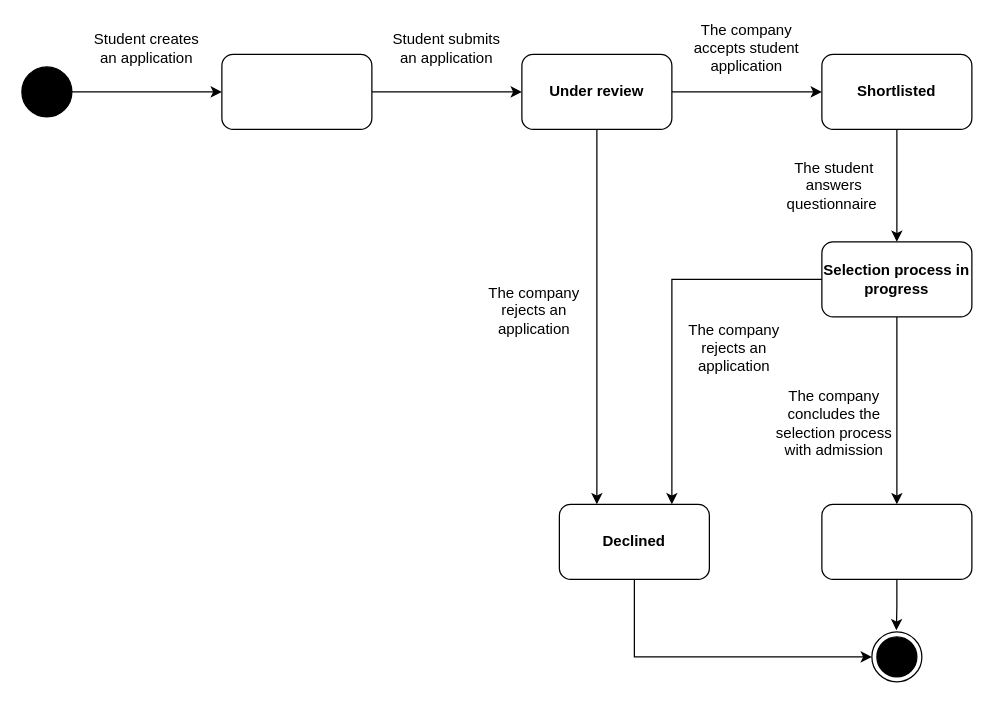
The diagram is 994 pixels wide and 704 high, and some of its shapes have lost their labels. Here are the shapes that lost their labels. From the top down, the centre of each, then its label:
At point 296,91: "Draft".
At point 896,541: "Accepted".
